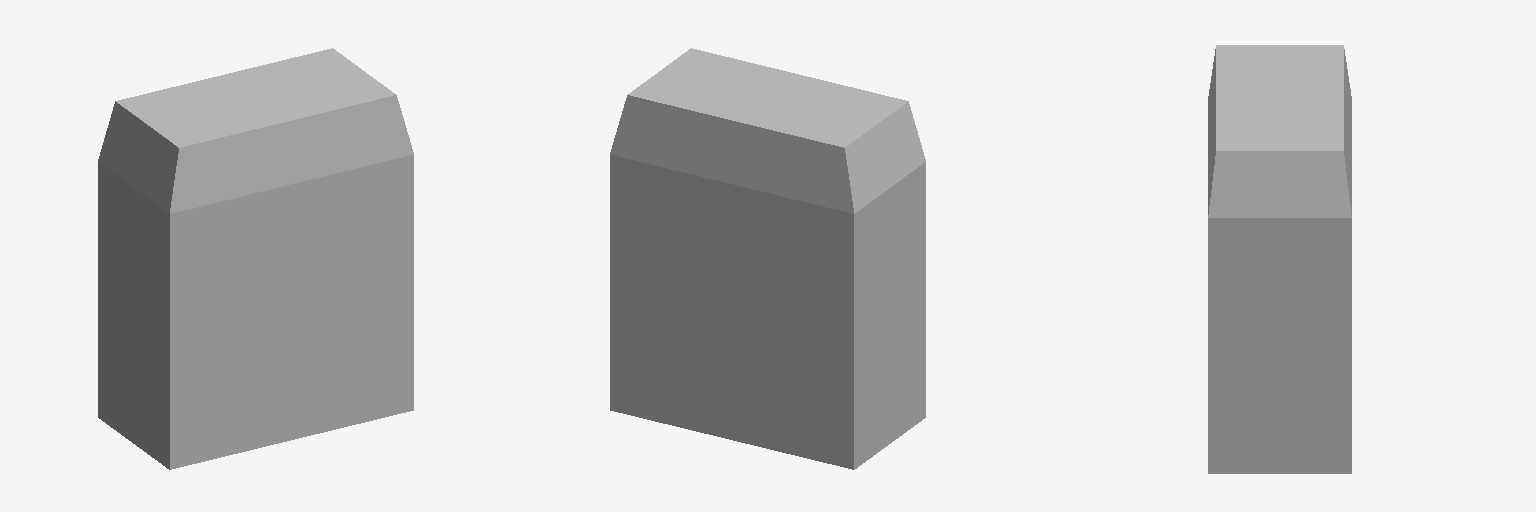
File: floorScrap4.obj
The picture shows the model from 3 angles: view 1: azimuth 30°, elevation 25°; view 2: azimuth 150°, elevation 25°; view 3: azimuth 270°, elevation 25°; orthographic projection.
Parts seen in each view (by area): view 1: Object.1; view 2: Object.1; view 3: Object.1.
Part boxes in pixels (left/top/right/bottom): Object.1: left=98, top=48, right=413, bottom=469; Object.1: left=610, top=48, right=925, bottom=469; Object.1: left=1208, top=45, right=1351, bottom=473.
Size of the model in its own units: 50.8 by 62.69 by 25.84.